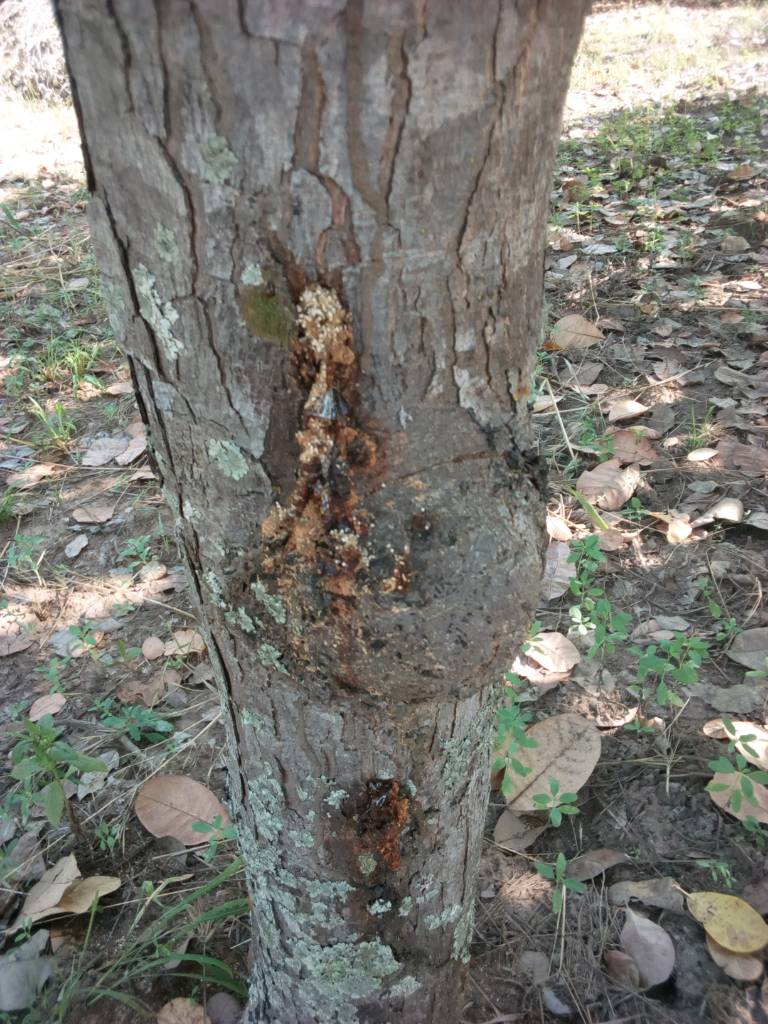Apate terebrans: (278, 761, 453, 909)
